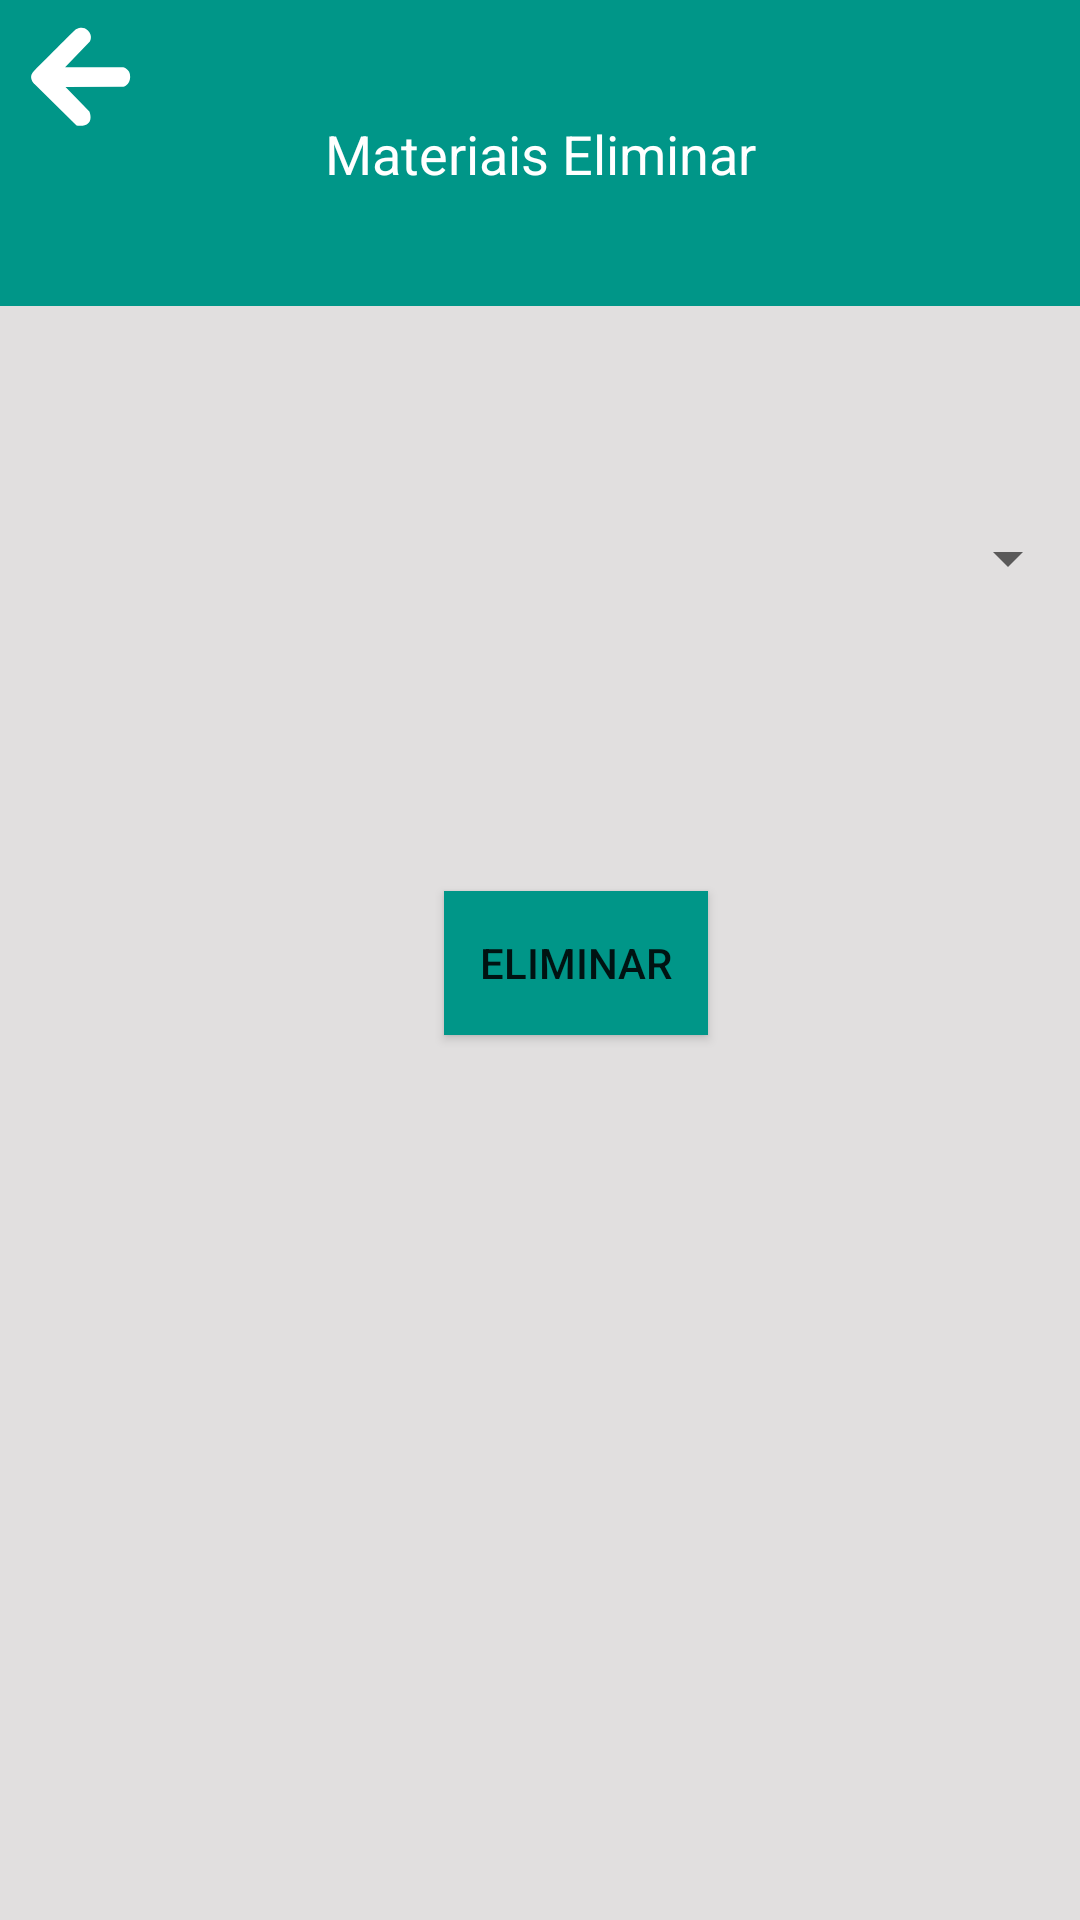

Locate icon controls on the screen. Image size 1080×1920, boxes as (x1, y1, x2, y2).
seta: (31, 27, 131, 126)
